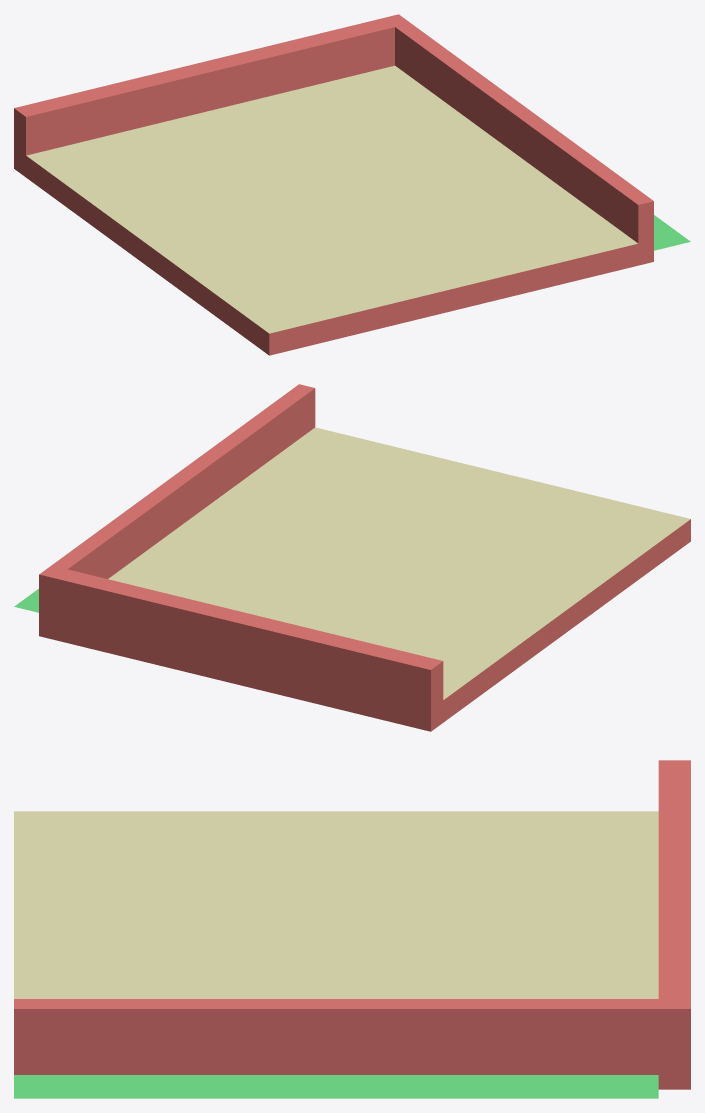
File: right_corner.fbx
3 renders of one model, top to bottom at view 1: azimuth 30°, elevation 25°; view 2: azimuth 150°, elevation 25°; view 3: azimuth 270°, elevation 25°, orthographic. The views are drawn at different scales.
Visible parts, largest first — view 1: 1_cube, Plane; view 2: 1_cube; view 3: 1_cube, Plane.
Part boxes in pixels (left/top/right/bottom): 1_cube: left=14, top=14, right=653, bottom=355; Plane: left=654, top=215, right=690, bottom=250; 1_cube: left=39, top=384, right=690, bottom=731; 1_cube: left=14, top=760, right=690, bottom=1089; Plane: left=14, top=1075, right=658, bottom=1098.
Bounding box in the file's own units: 200 × 27.5 × 210.
